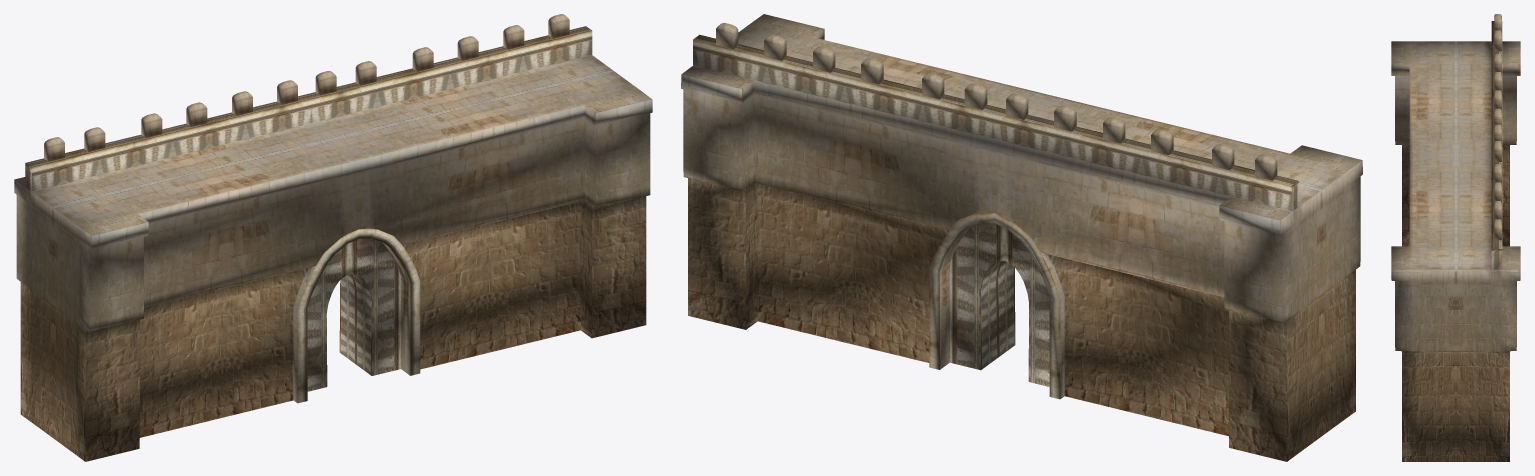
Rendered from entrance_small.dae.
3 renders of one model, left to right at view 1: azimuth 30°, elevation 25°; view 2: azimuth 150°, elevation 25°; view 3: azimuth 270°, elevation 25°, orthographic. The views are drawn at different scales.
Visible parts, largest first — view 1: meshU3D; view 2: meshU3D; view 3: meshU3D.
Boxes of the visible parts, left/top/right/bottom form: meshU3D: left=14, top=14, right=652, bottom=461; meshU3D: left=681, top=14, right=1362, bottom=461; meshU3D: left=1391, top=14, right=1520, bottom=461.
Size of the model in its own units: 557 by 261 by 133.
